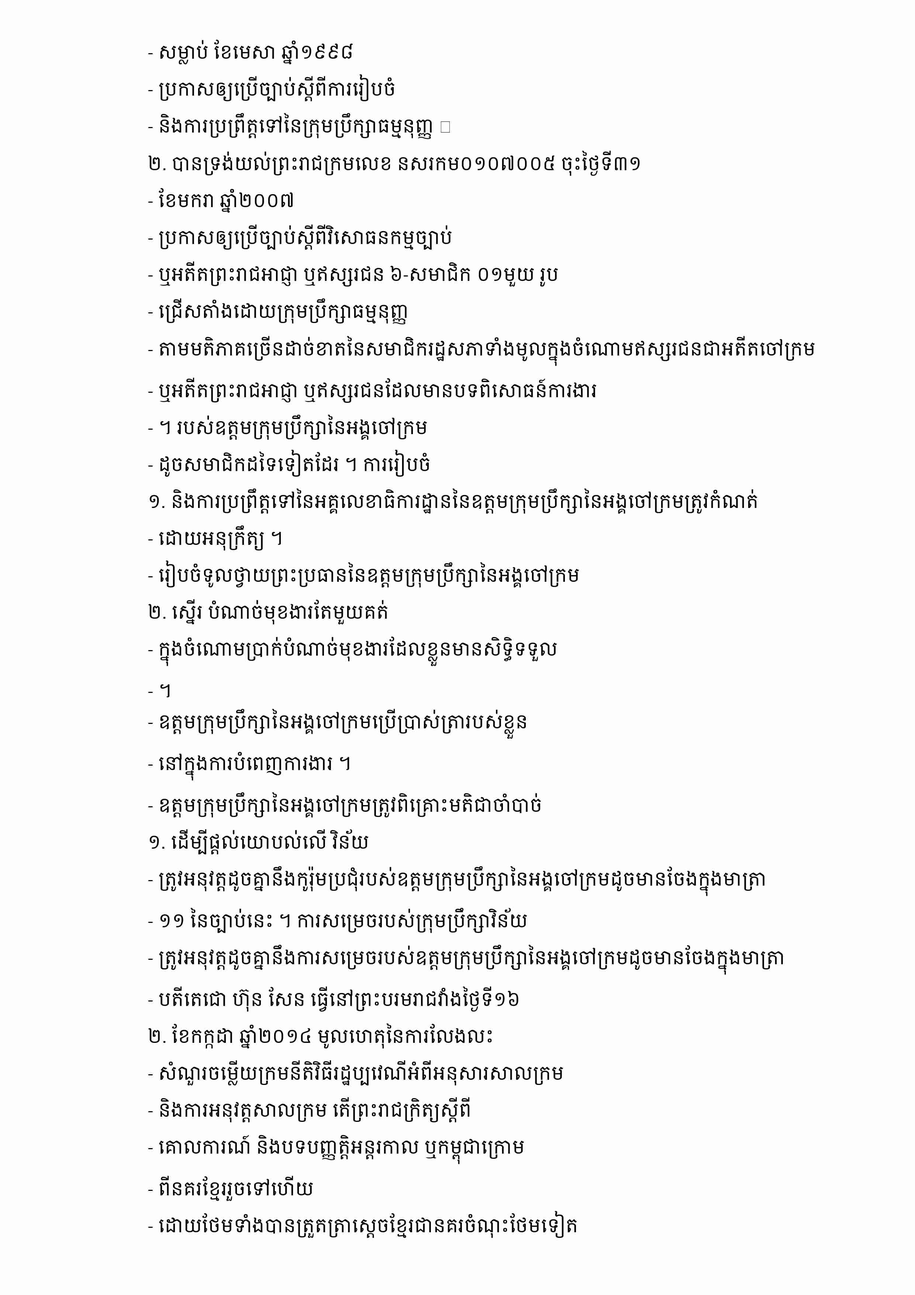text: (148, 336, 821, 366), (148, 945, 790, 975), (148, 866, 771, 896), (148, 488, 763, 514), (148, 151, 647, 176), (148, 636, 563, 666), (148, 560, 585, 588), (148, 1211, 583, 1238), (148, 709, 533, 739), (148, 378, 602, 403), (148, 1135, 530, 1164), (148, 1060, 569, 1086), (148, 261, 564, 287), (148, 792, 547, 818), (148, 986, 525, 1012), (148, 908, 533, 933), (148, 1023, 499, 1049), (148, 1097, 476, 1123), (148, 224, 458, 250), (148, 113, 457, 139), (148, 450, 436, 477), (148, 415, 432, 440), (148, 74, 401, 102), (148, 298, 414, 324), (148, 599, 394, 625), (148, 752, 356, 781), (148, 829, 374, 855), (148, 40, 358, 65), (148, 1176, 319, 1201), (148, 188, 300, 213), (148, 525, 288, 551), (148, 684, 177, 697)
